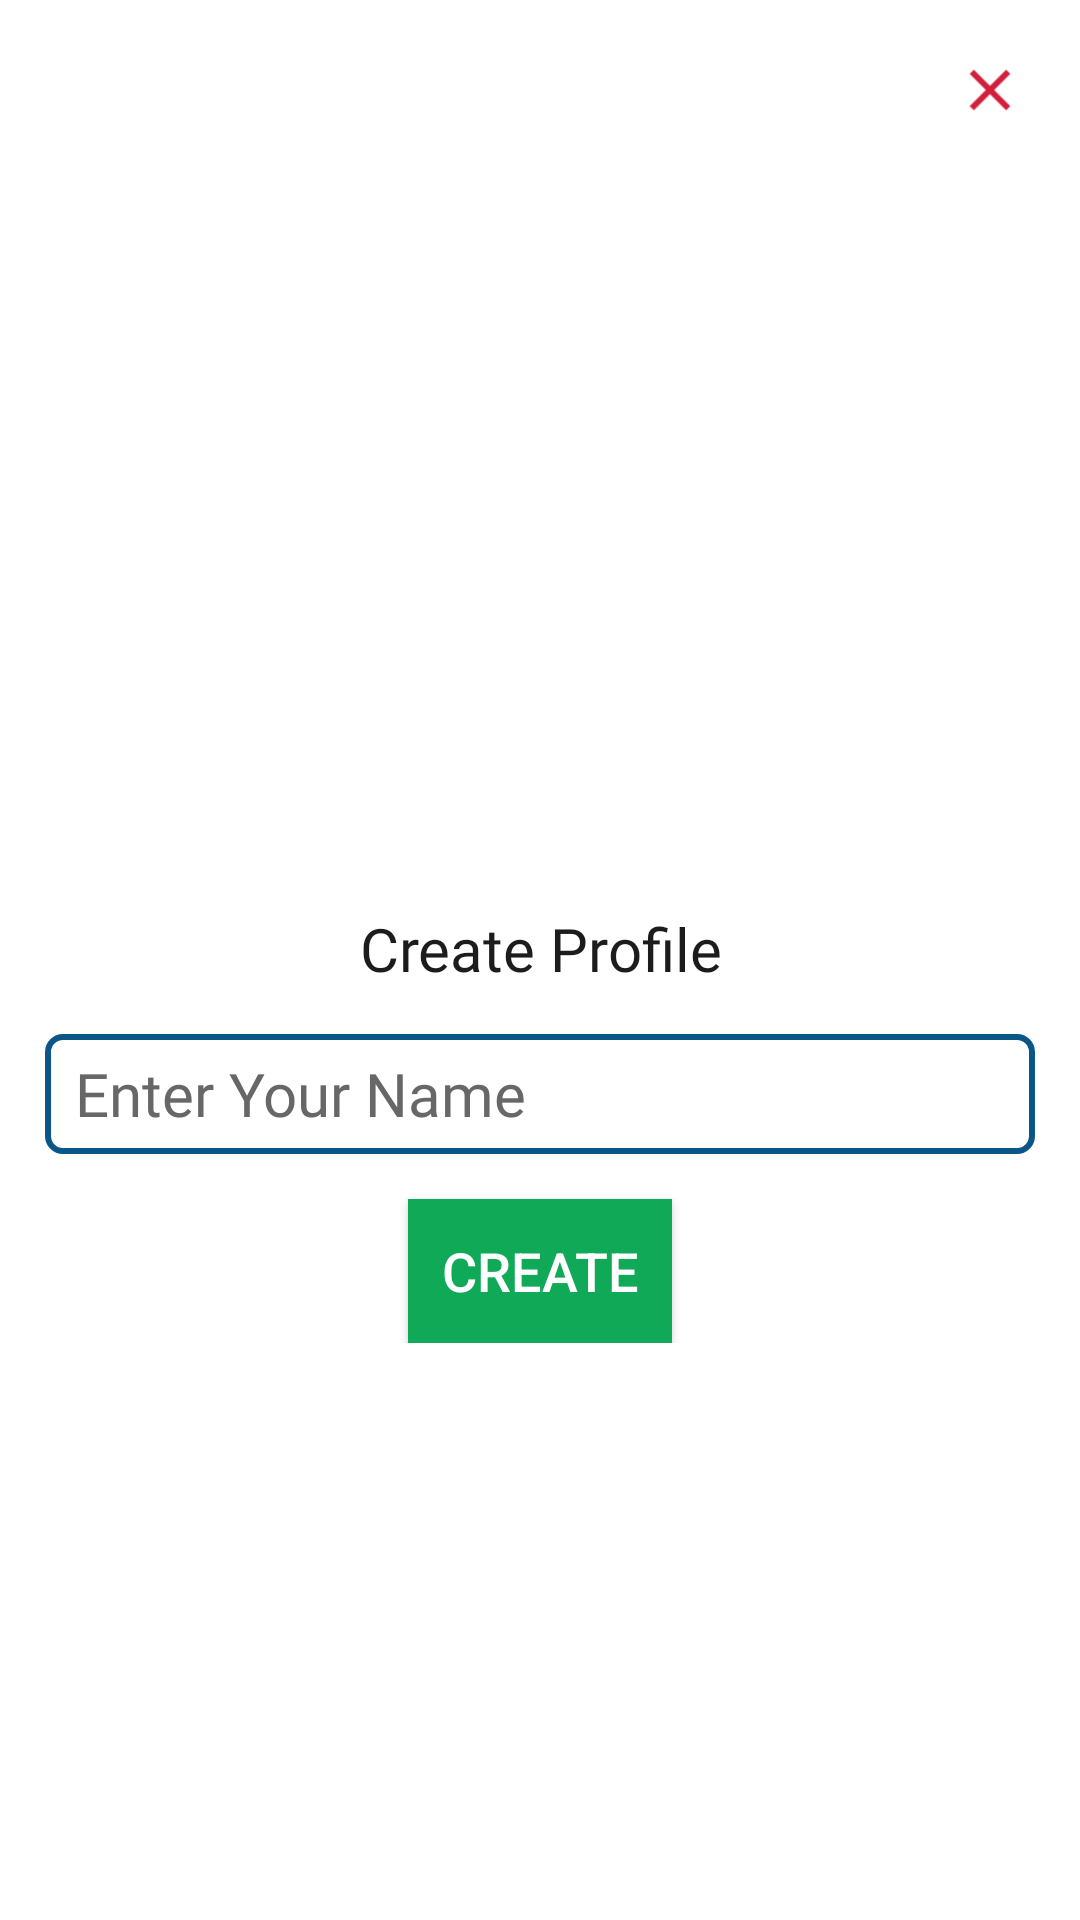

Where icons sit on this 1080x1920 app screen, as rect(x1, y1, x2, y2):
close: rect(969, 69, 1011, 111)
